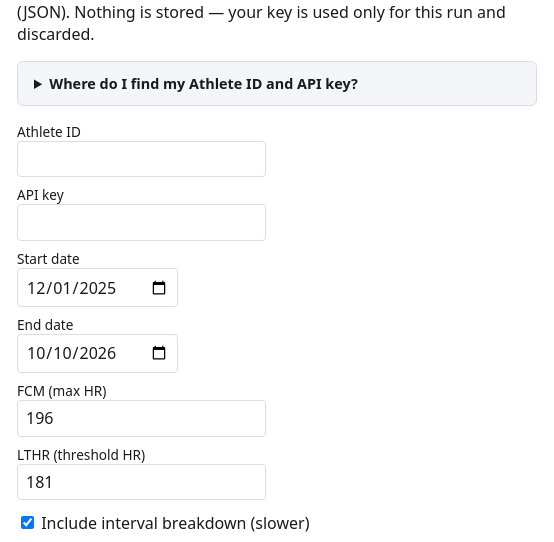
Test case: App form › blocks submit and shows error on invalid athlete id
In the field labelled "Athlete ID": (142, 159) [17,141,266,178], type "nope"
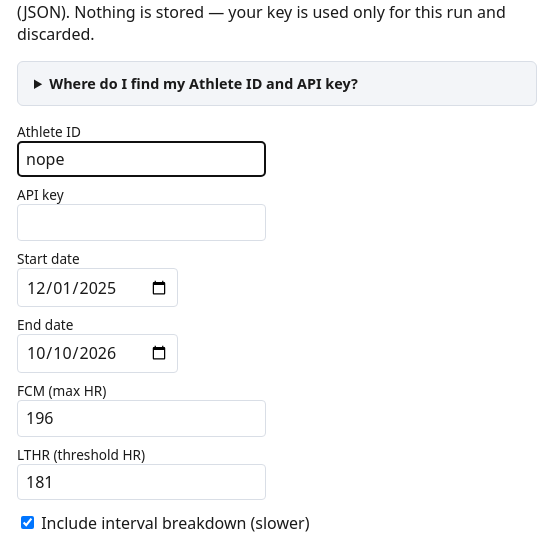
In the password field labelled "API key": (142, 223) [17,204,266,241], type "abcd1234efgh5678"
(page scrolled)
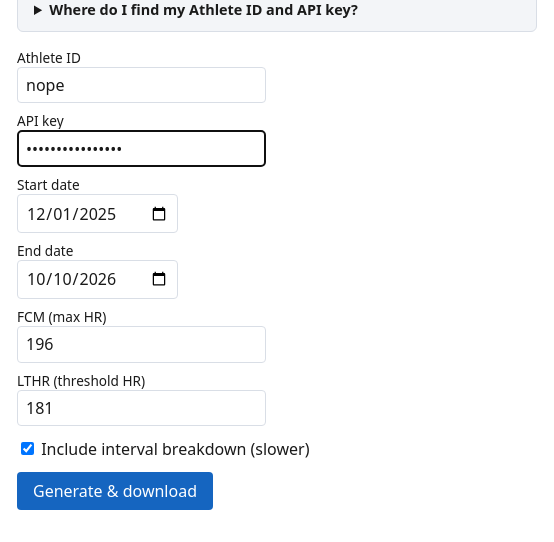
Click the button: click(115, 491) [17,472,213,510]
(page scrolled)
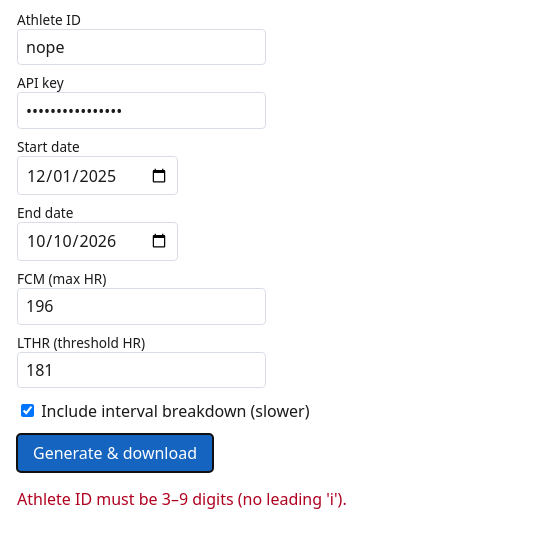
Now the message shows "Athlete ID", box [17,488,347,510]
